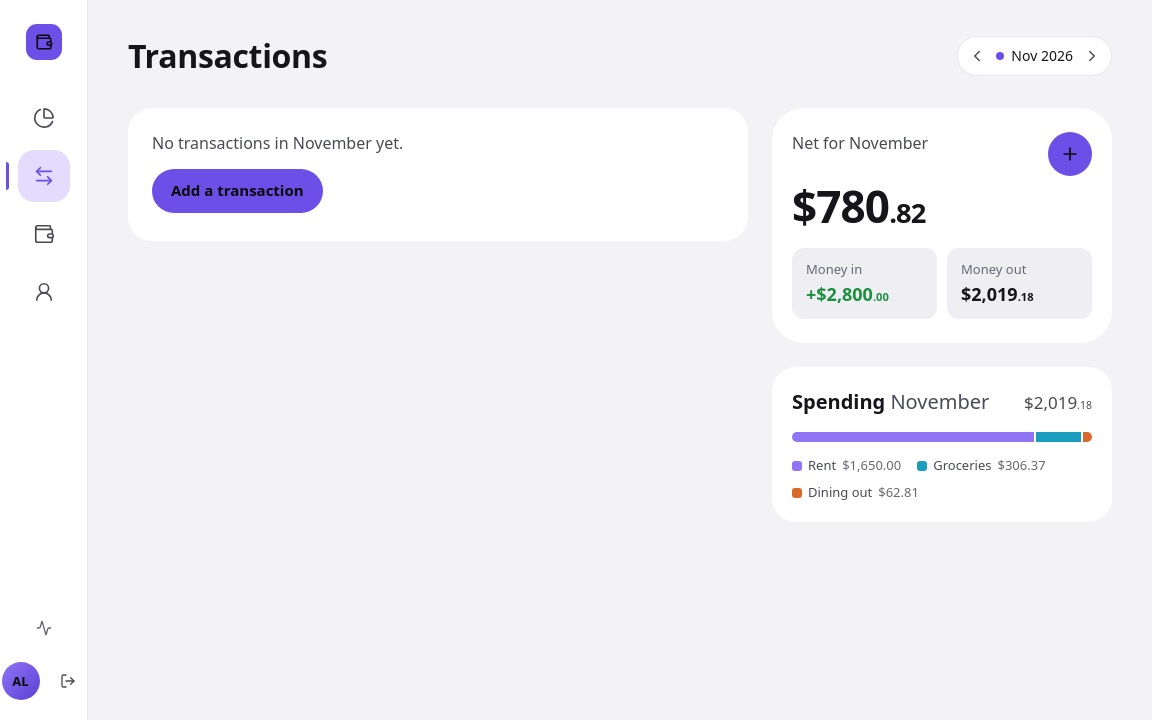
Scenario: an empty month says so and offers to add one
Expected: the element "Net for November" is shown, left=772, top=108, right=1112, bottom=343
Expected: the text "No transactions in November yet." is shown, left=152, top=132, right=403, bottom=155
Step 1. Click the button "Add a transaction" → [237, 191], box left=152, top=169, right=323, bottom=213
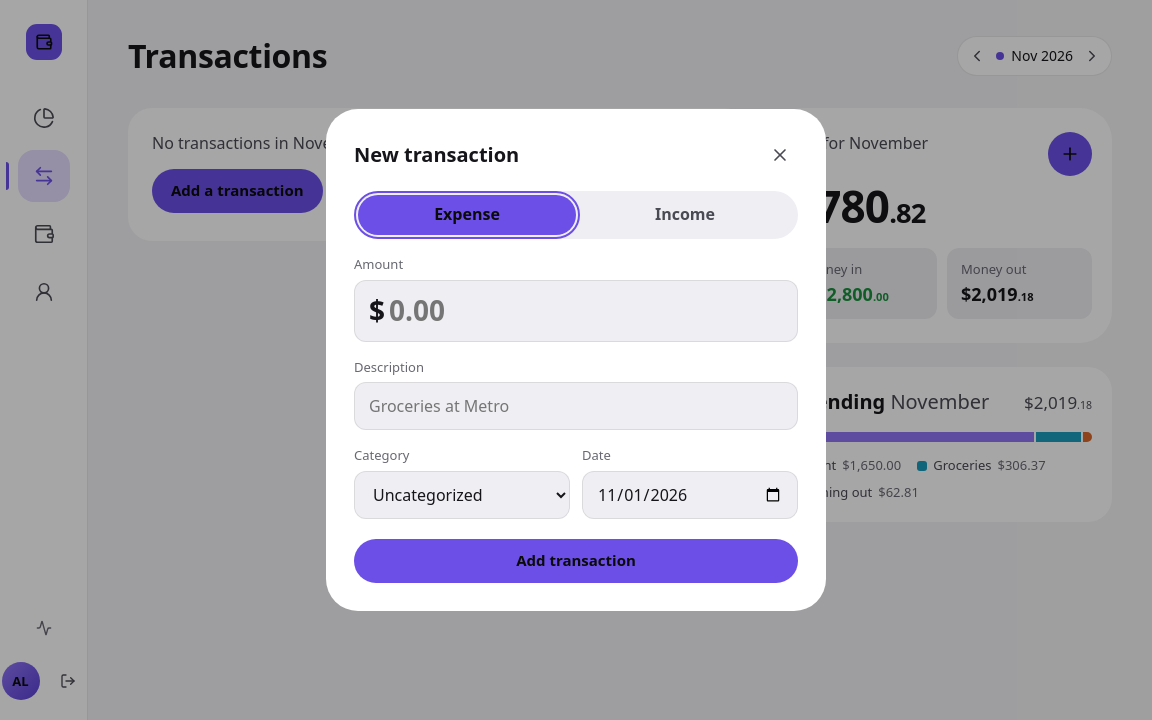
Expected: the dialog "New transaction" is shown, left=326, top=109, right=826, bottom=611
